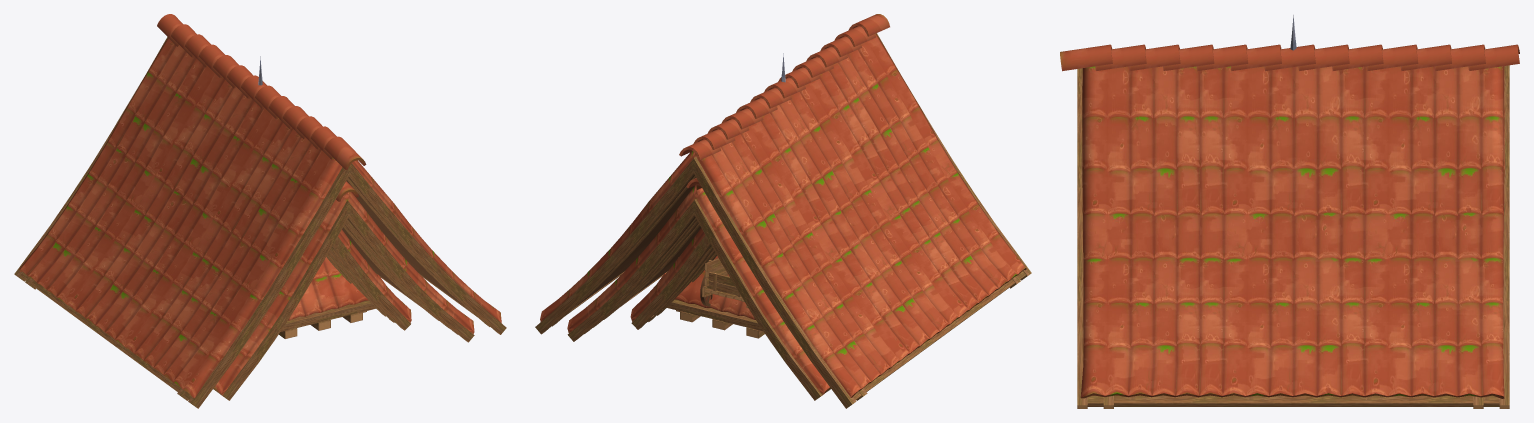
Rendered from village.glb.
The picture shows the model from 3 angles, left to right: view 1: azimuth 30°, elevation 25°; view 2: azimuth 150°, elevation 25°; view 3: azimuth 270°, elevation 25°; orthographic projection. The views are drawn at different scales.
Visible parts, largest first — view 1: Roof_RoundTiles_8x8, Roof_RoundTiles_6x8, Roof_Tower_RoundTiles, Roof_RoundTiles_4x6, Roof_RoundTiles_6x6; view 2: Roof_RoundTiles_8x8, Roof_RoundTiles_6x8, Roof_Tower_RoundTiles, Roof_RoundTiles_4x6, Prop_Wagon, Roof_RoundTiles_6x6; view 3: Roof_RoundTiles_8x8.
Part boxes in pixels (box(x1,y1,x2,y2)): Roof_RoundTiles_8x8: box(14, 14, 506, 408); Roof_RoundTiles_6x8: box(213, 181, 474, 400); Roof_Tower_RoundTiles: box(258, 56, 385, 338); Roof_RoundTiles_4x6: box(330, 229, 411, 330); Roof_RoundTiles_6x6: box(342, 222, 449, 328); Roof_RoundTiles_8x8: box(535, 14, 1031, 408); Roof_RoundTiles_6x8: box(567, 178, 830, 400); Roof_Tower_RoundTiles: box(658, 53, 785, 338); Roof_RoundTiles_4x6: box(630, 228, 713, 329); Prop_Wagon: box(700, 258, 748, 308); Roof_RoundTiles_6x6: box(593, 220, 701, 327); Roof_RoundTiles_8x8: box(1060, 44, 1519, 408).
Size of the model in its own units: 9.95 by 8.91 by 10.33.
Materials: 9 (8 with a texture image).
